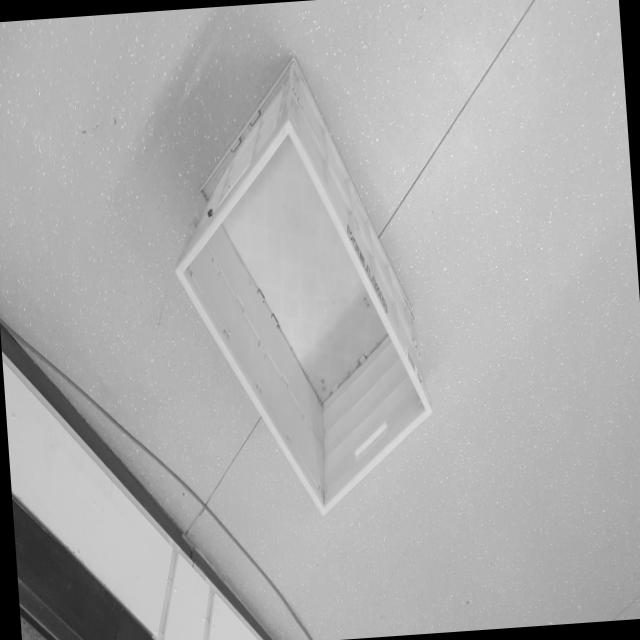box: (152, 37, 442, 544)
